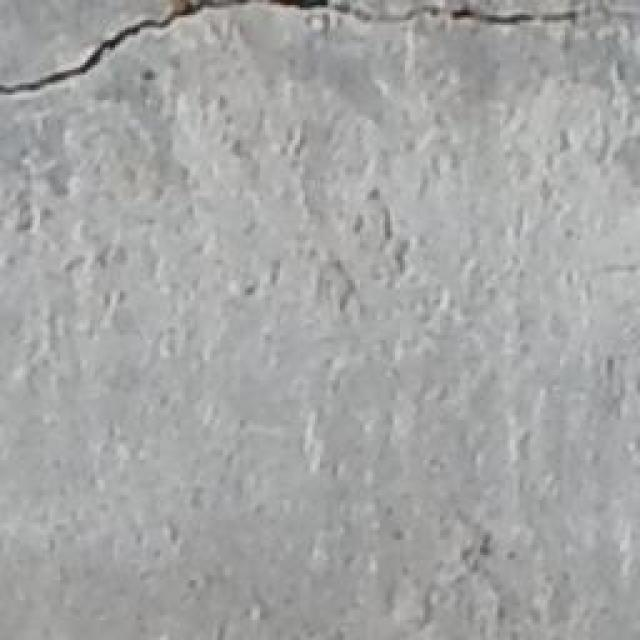concrete-crack: (0, 0, 590, 104)
